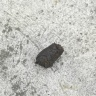Dog: (33, 41, 65, 69)
